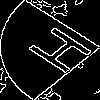H: (24, 25, 100, 82)
